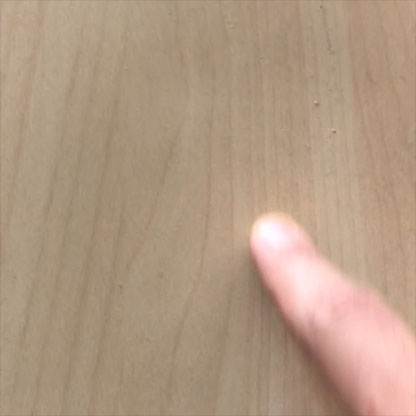fingertip: (248, 203, 314, 268)
